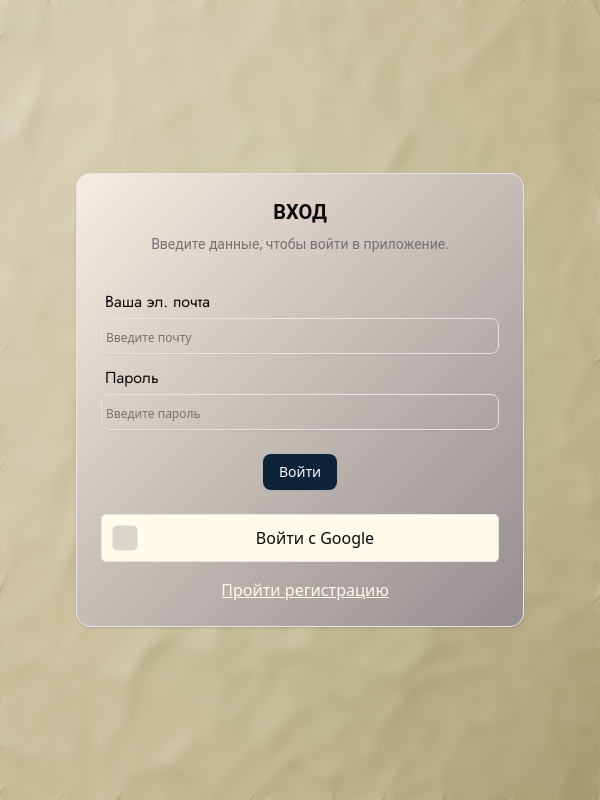
Test: Sign-in Page - smoke › can navigate to sign/up when clicking on sign-up link
Click the link "Пройти регистрацию" at (305, 590), box [221,578,389,602]
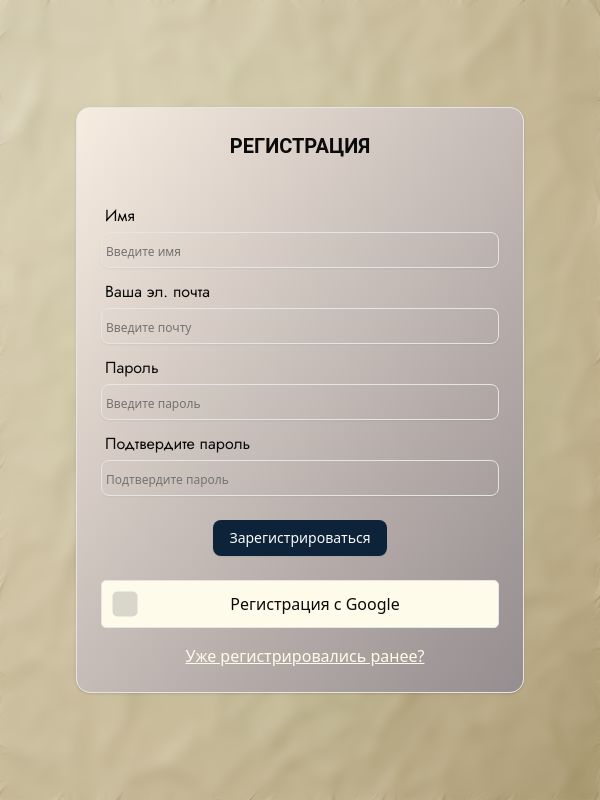
Check: the text "РЕГИСТРАЦИЯ" is shown, box [230,134,370,158]
